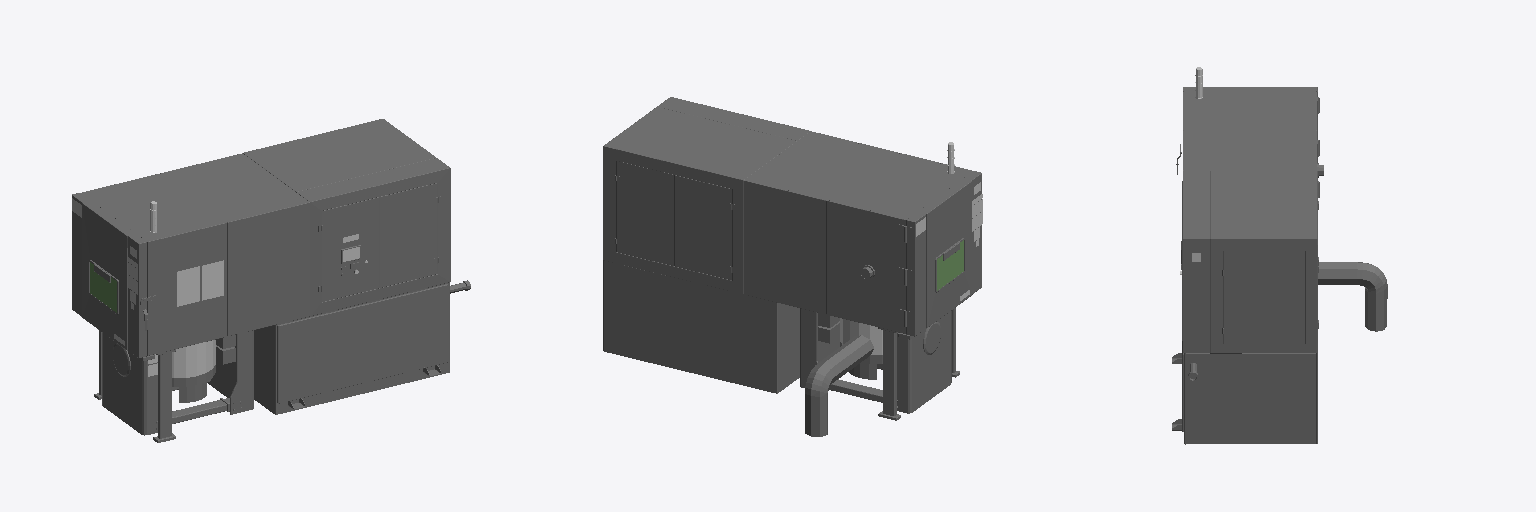
The model's file is 11SZHSYX.obj.
3 renders of one model, left to right at view 1: azimuth 30°, elevation 25°; view 2: azimuth 150°, elevation 25°; view 3: azimuth 270°, elevation 25°, orthographic.
Parts seen in each view (by area): view 1: Metal_02, Metal_03, Tex, PartA_02, Glass, Matel_05; view 2: Metal_02, Metal_03, Matel_05, Tex, Glass, PartA_03; view 3: Metal_02, Matel_05.
Part boxes in pixels (x1,y1,x2,y2): Metal_02: (72,119,470,442); Metal_03: (102,330,253,435); Tex: (72,198,367,377); PartA_02: (327,262,431,294); Glass: (90,262,116,312); Matel_05: (89,245,360,330); Metal_02: (603,97,981,420); Metal_03: (800,308,951,413); Matel_05: (805,238,964,436); Tex: (840,142,982,354); Glass: (937,240,963,290); PartA_03: (899,224,912,327); Metal_02: (1172,87,1317,444); Matel_05: (1176,144,1387,332).
Bounding box in the file's own units: 135 × 89.83 × 74.46.